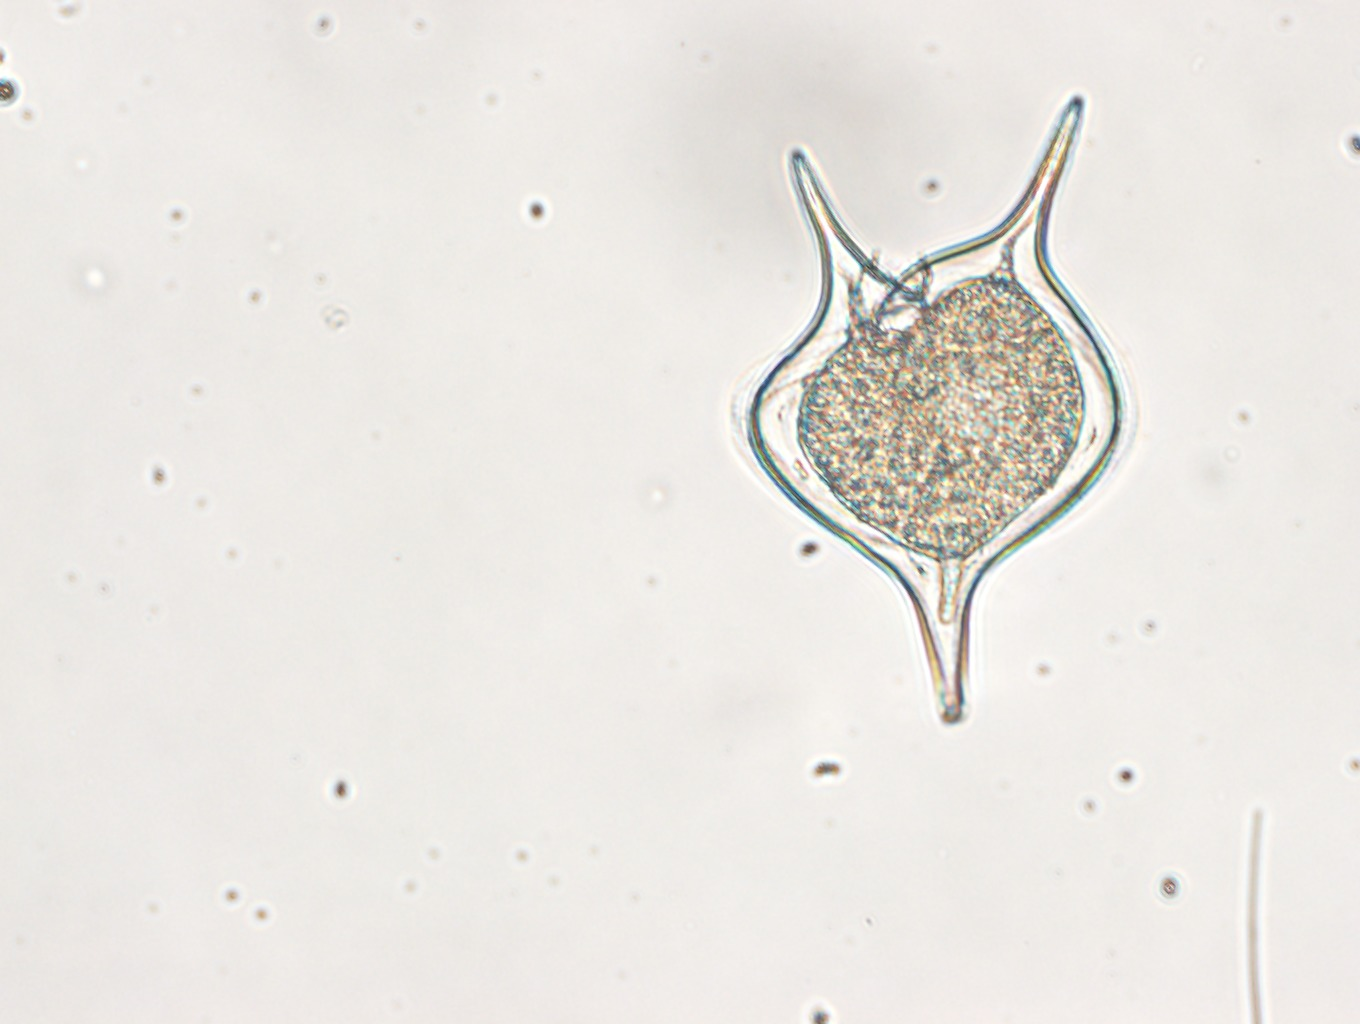protoperidinium: (743, 91, 1121, 727)
